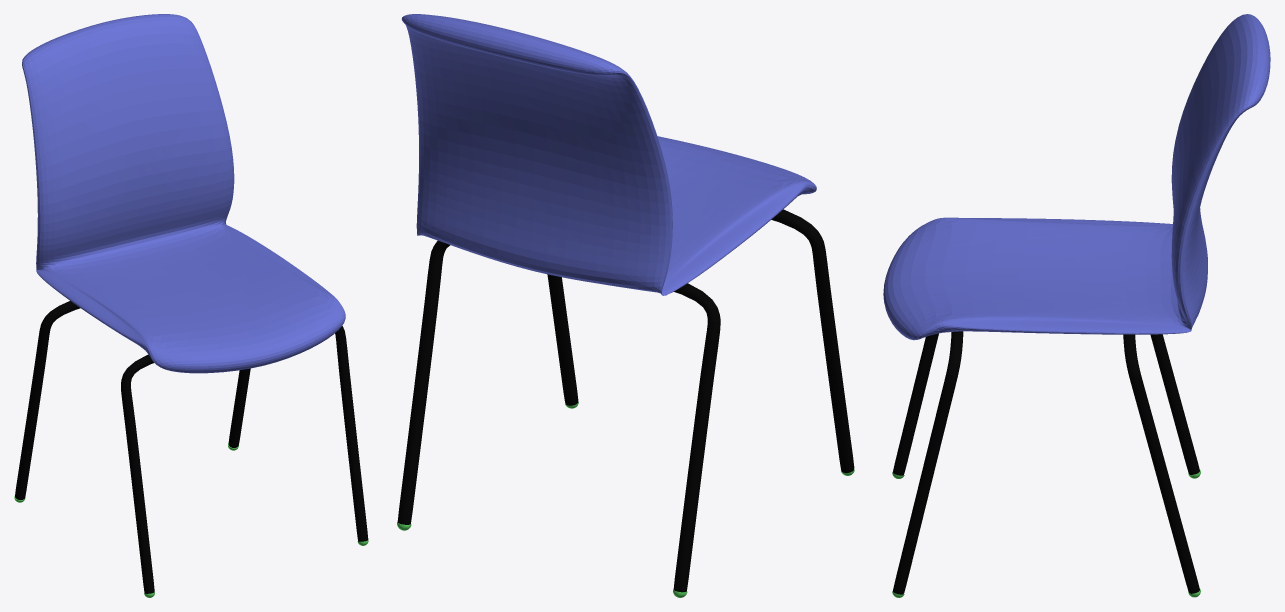
File: sweethome3d-blendswap-cc-0-chair.glb
The picture shows the model from 3 angles, left to right: view 1: azimuth 30°, elevation 25°; view 2: azimuth 150°, elevation 25°; view 3: azimuth 270°, elevation 25°; orthographic projection. The views are drawn at different scales.
Visible parts, largest first — view 1: Plane; view 2: Plane; view 3: Plane.
Part boxes in pixels (<box>): Plane: <box>14,14,368,597</box>; Plane: <box>397,14,854,597</box>; Plane: <box>883,14,1270,597</box>.
Size of the model in its own units: 44.43 by 82.01 by 58.4.
